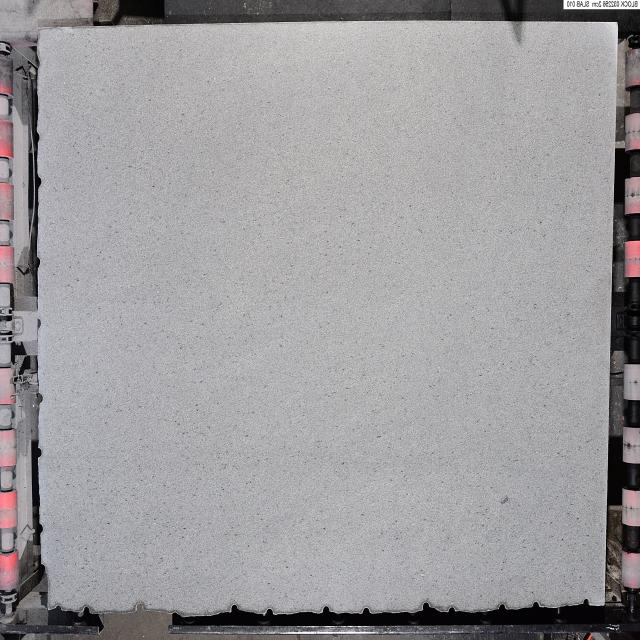chapa: (39, 22, 616, 614)
veio: (78, 604, 91, 618), (134, 600, 145, 616), (264, 606, 274, 620), (582, 596, 592, 609), (362, 606, 372, 619), (229, 603, 239, 616), (448, 604, 458, 616), (322, 604, 332, 616), (422, 600, 430, 614), (498, 602, 508, 612), (532, 600, 540, 612)
